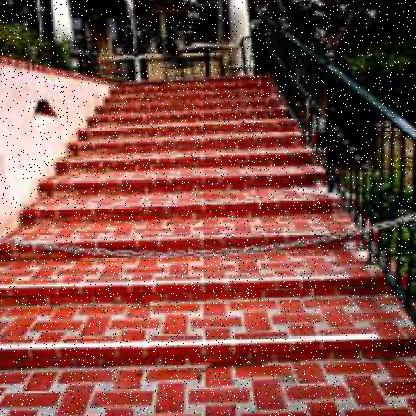stair_up: (0, 194, 398, 396)
